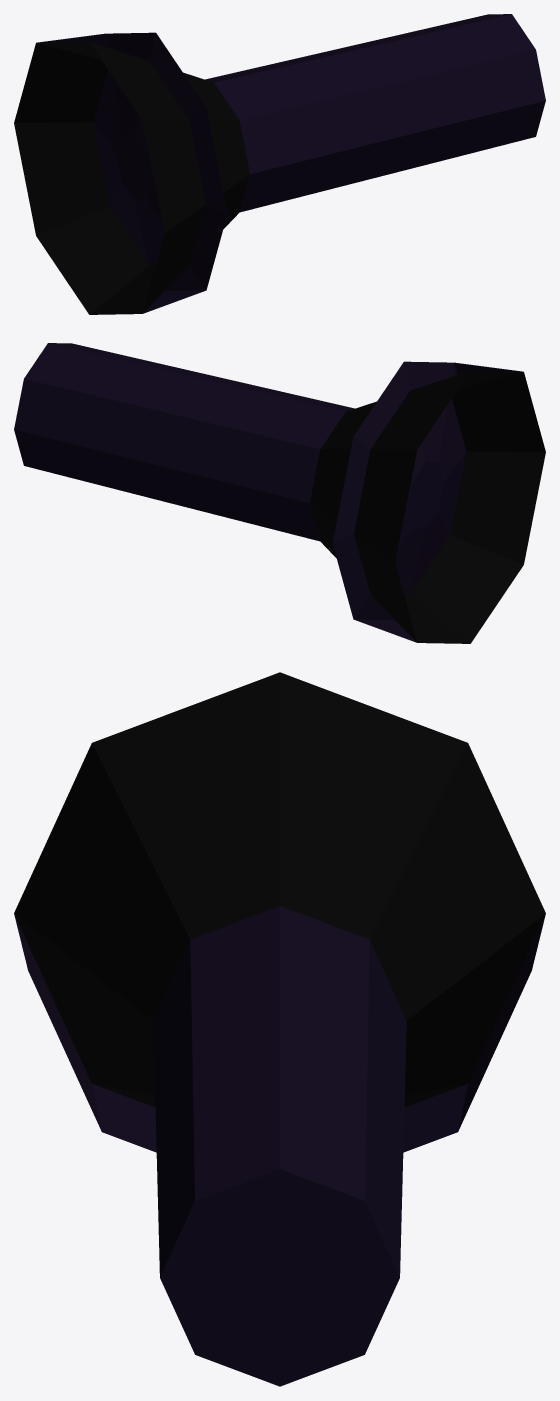
The model's file is flashlight.glb.
3 views of the same model, one above another, from view 1: azimuth 30°, elevation 25°; view 2: azimuth 150°, elevation 25°; view 3: azimuth 270°, elevation 25° (orthographic). The views are drawn at different scales.
Parts seen in each view (by area): view 1: Cilindro; view 2: Cilindro; view 3: Cilindro.
Boxes of the visible parts, bbox=[...] form: Cilindro: bbox=[14, 14, 545, 314]; Cilindro: bbox=[14, 343, 545, 643]; Cilindro: bbox=[14, 672, 545, 1386].
Bounding box in the file's own units: 3.46 × 2.14 × 2.14.
